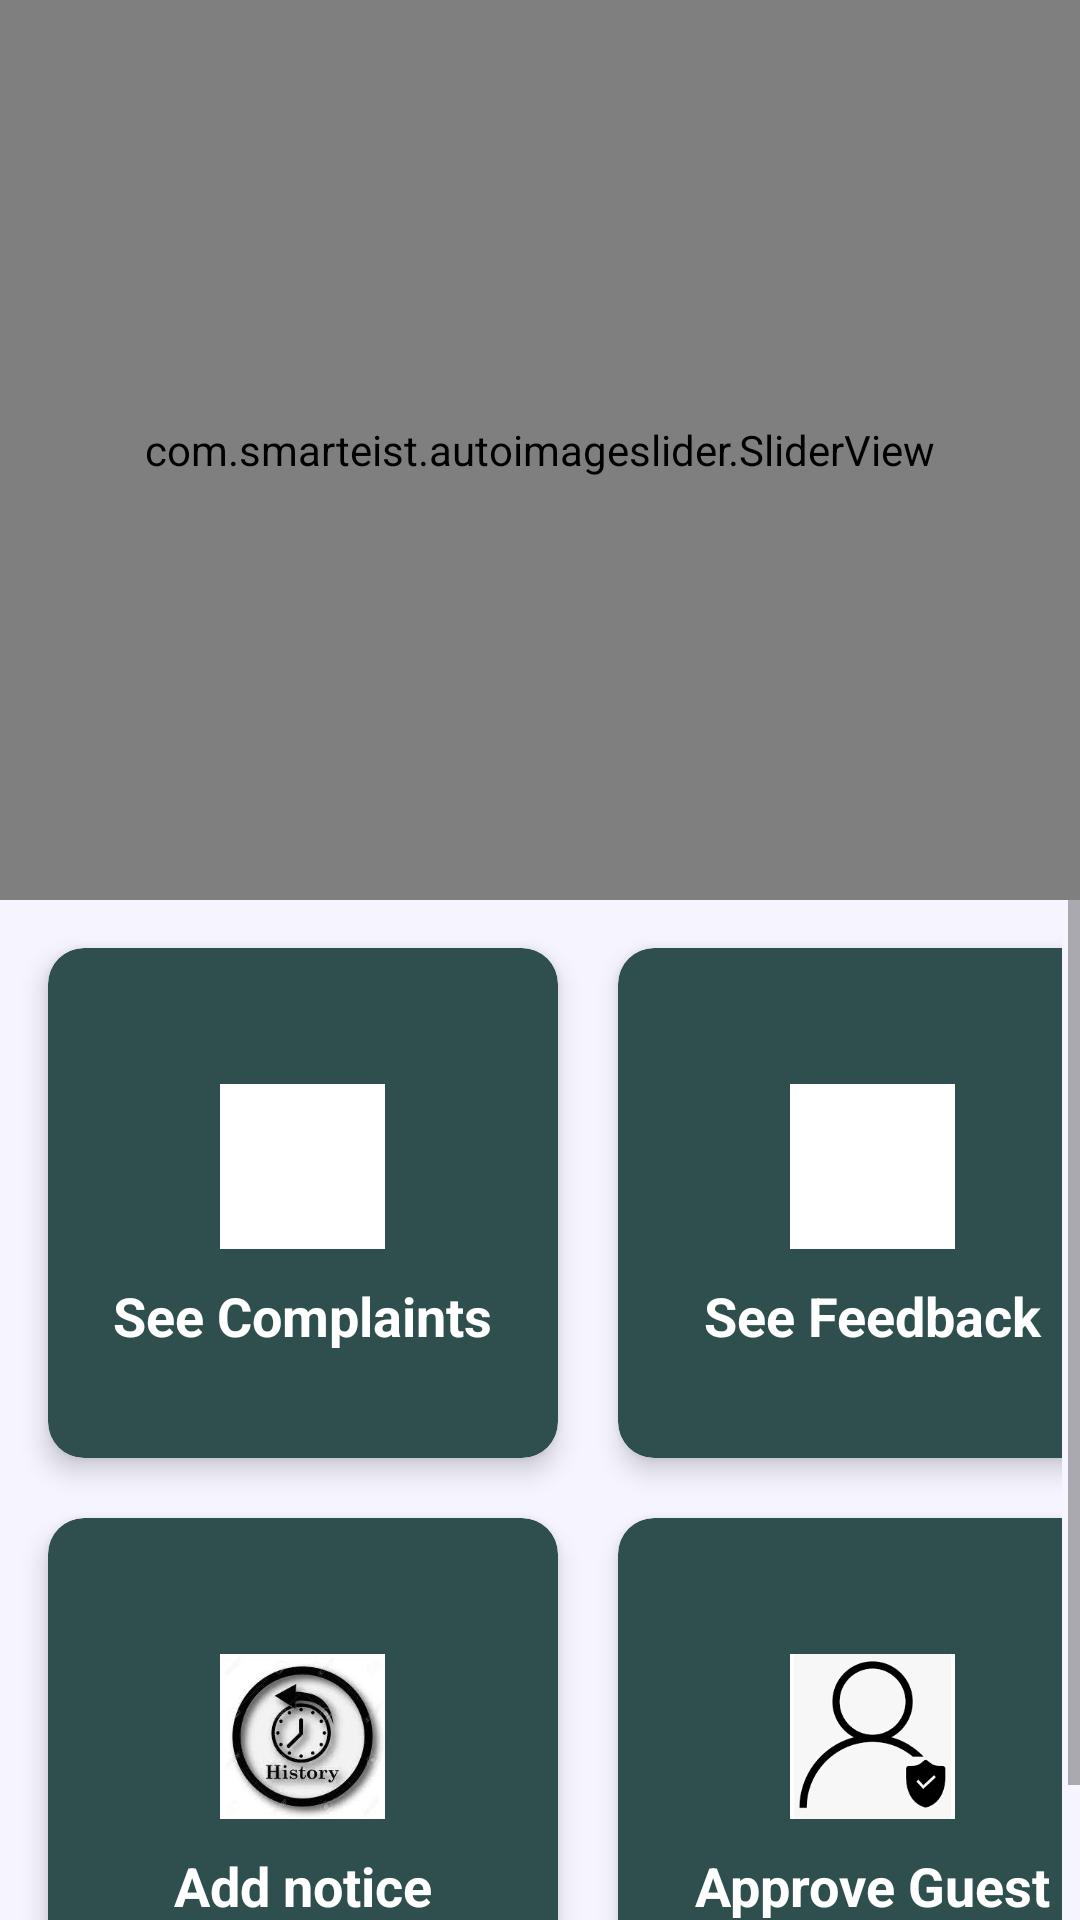

Point at icon controls on the screen. Image size 1080×1920, points as point (x, y).
approvedguest: point (872, 1736)
